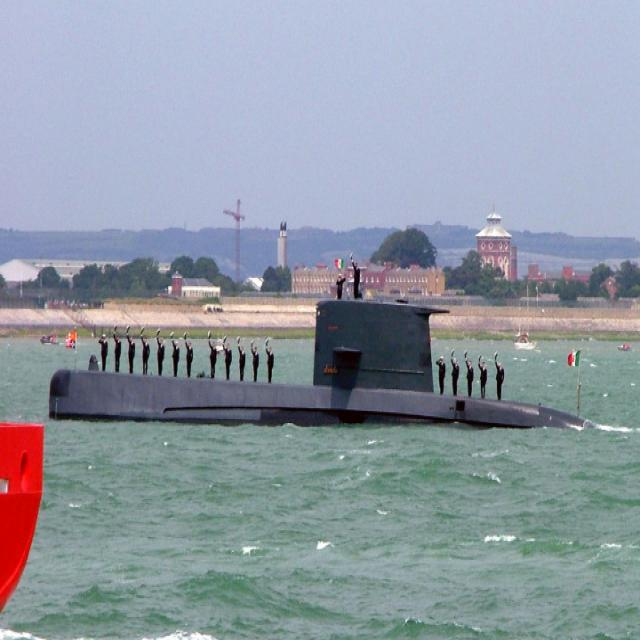submarine: (46, 301, 618, 432)
